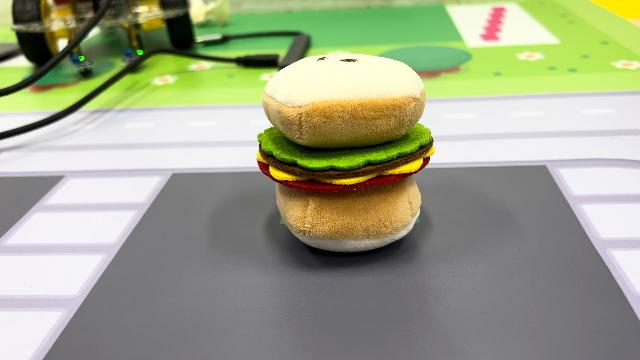sandwich: (255, 50, 438, 254)
